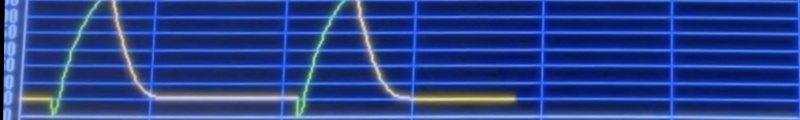leakage: (23, 3, 306, 116)
